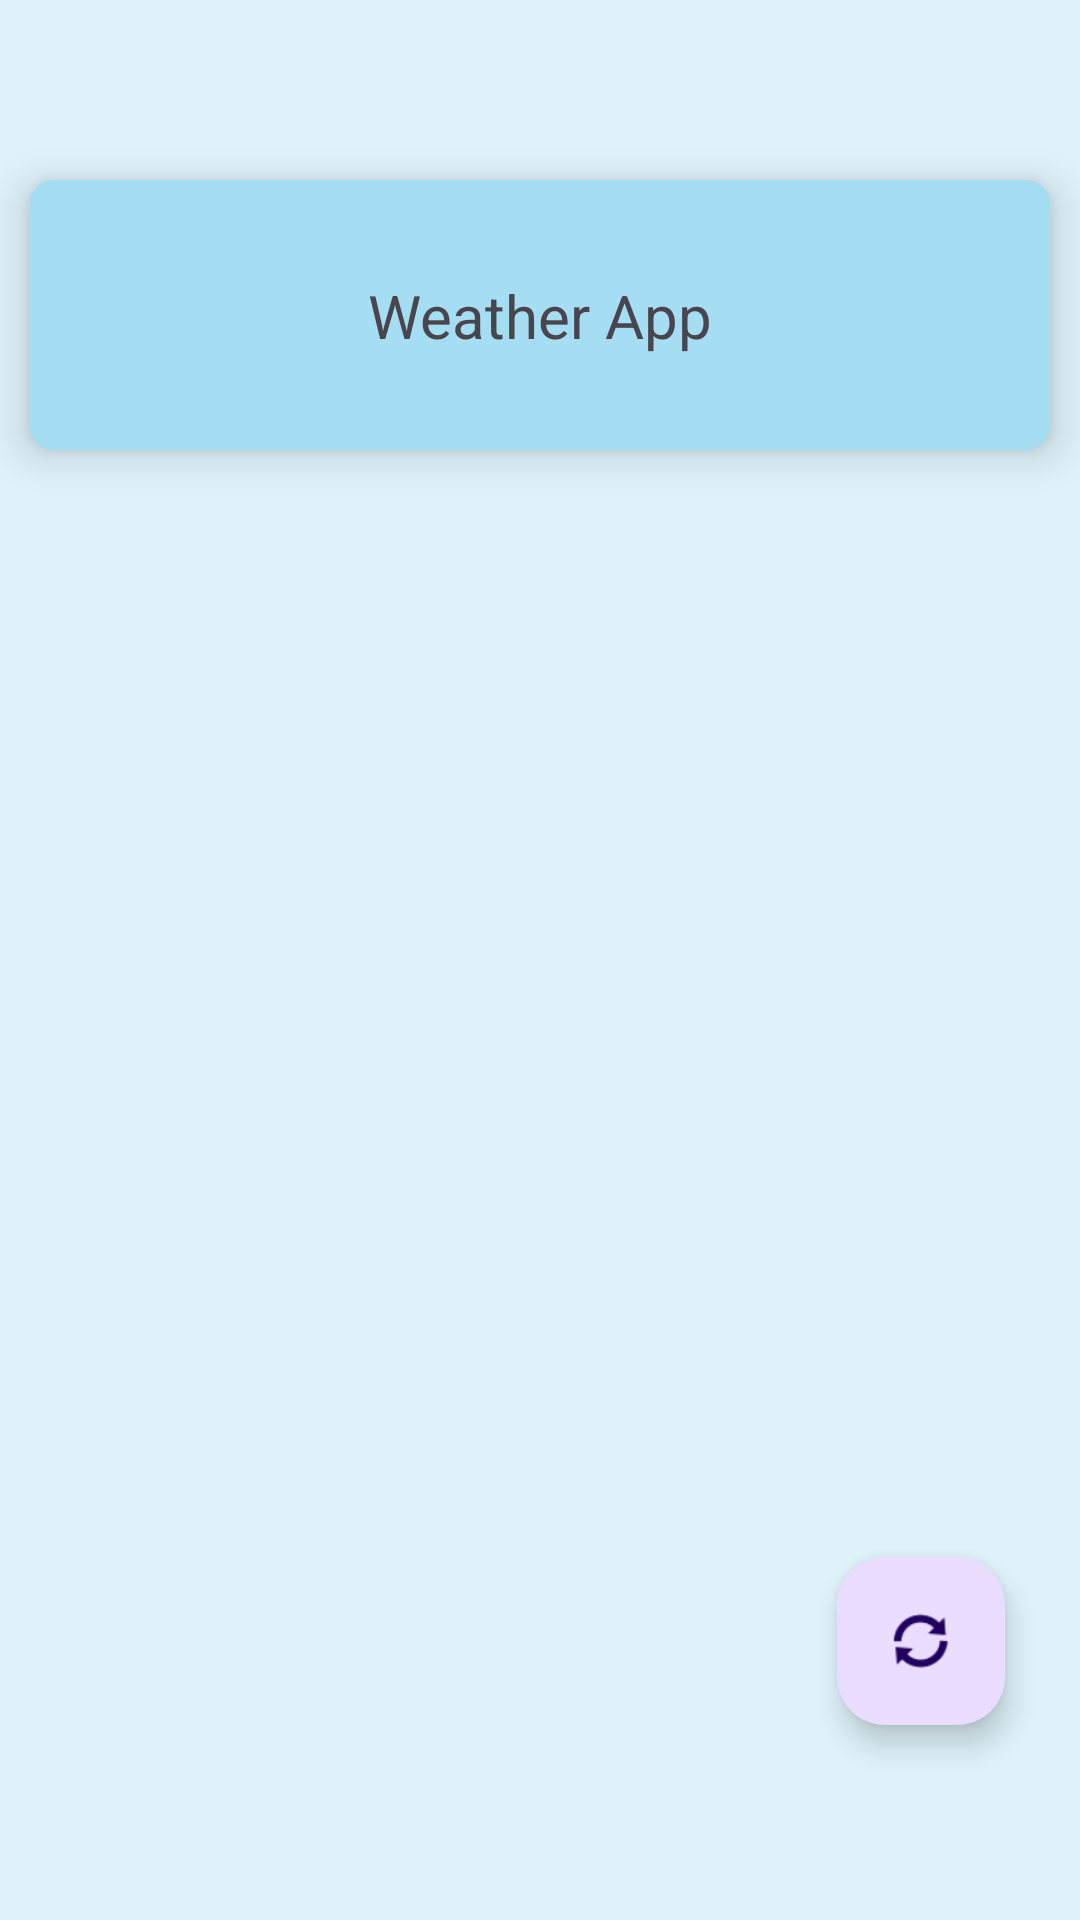

Locate icon controls on the screen. Image size 1080*1920, boxes as (x1, y1, x2, y2).
popup sync: (837, 1557, 1005, 1725)
